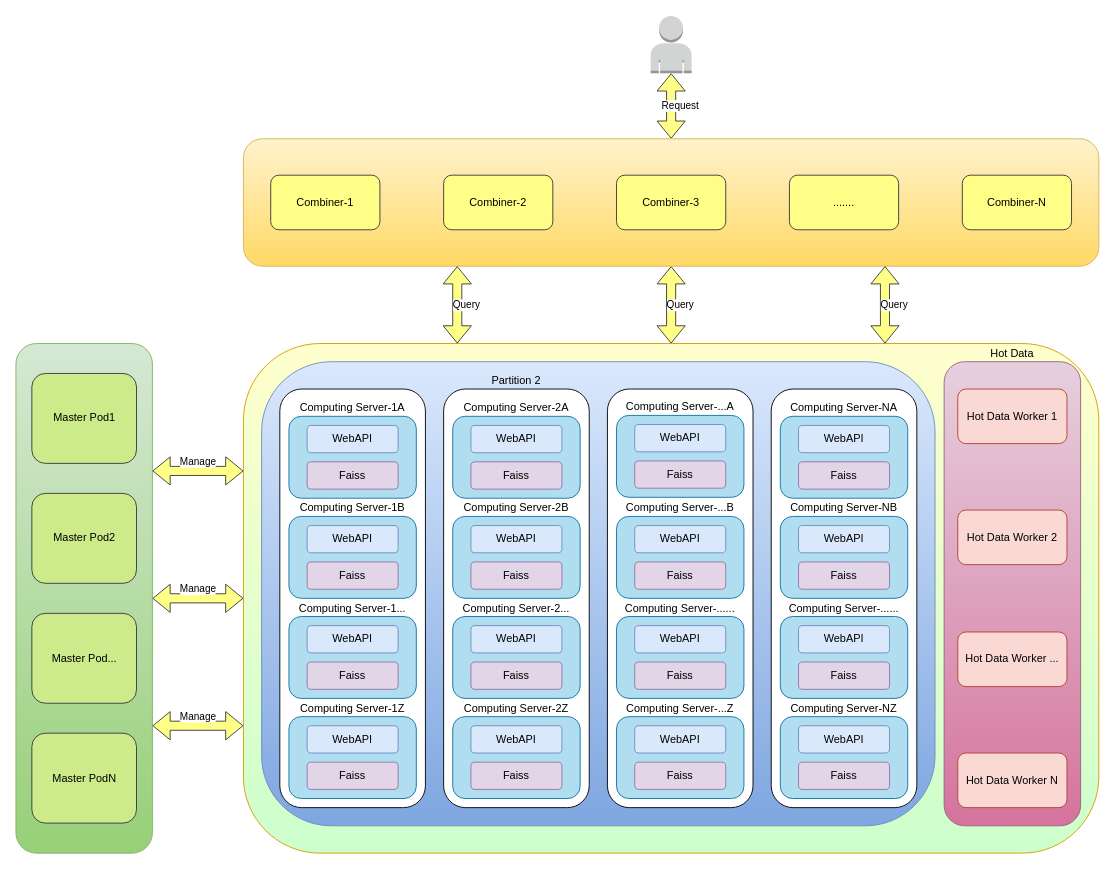
This 1115x869 diagram has some shape labels left out. Here are the shapes that lost their labels. From the top down, the box of each, then its label:
(243, 138, 1099, 266): Data Combiner Cluster
(15, 343, 152, 853): Master Cluster
(279, 388, 425, 808): Partition 1
(261, 361, 935, 826): Cold Data
(243, 343, 1099, 853): Data Worker Cluster
(607, 388, 753, 808): Partition ...
(770, 388, 917, 808): Partition N
